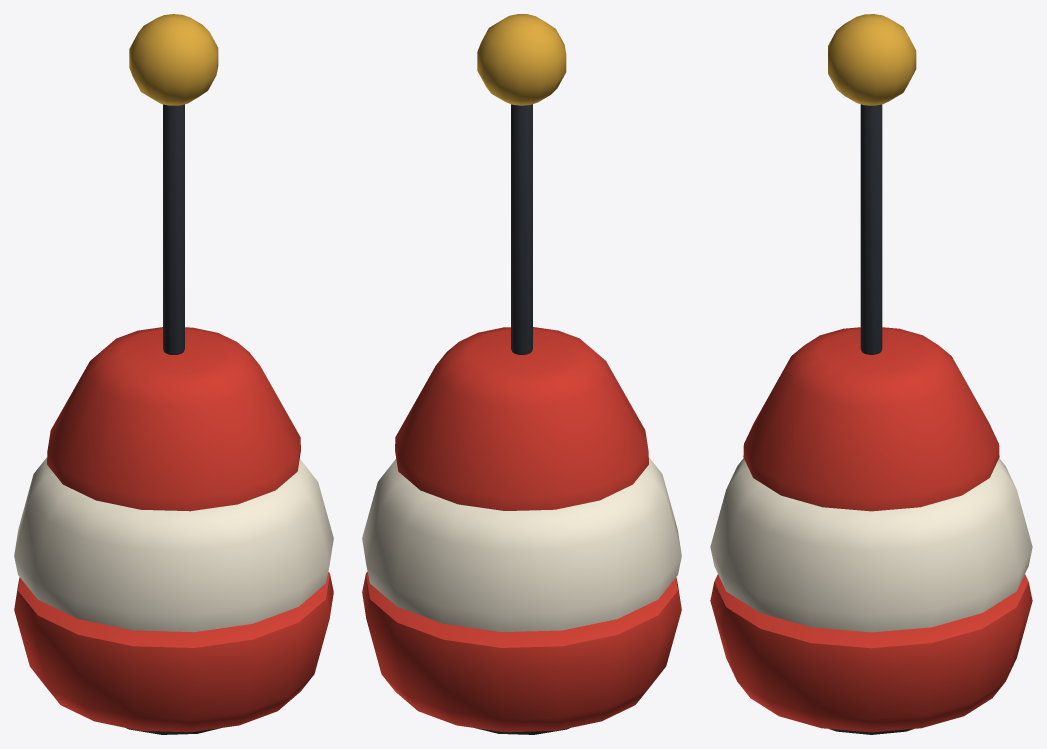
The model's file is Buoy.glb.
The picture shows the model from 3 angles, left to right: view 1: azimuth 30°, elevation 25°; view 2: azimuth 150°, elevation 25°; view 3: azimuth 270°, elevation 25°; orthographic projection.
Parts seen in each view (by area): view 1: Buoy; view 2: Buoy; view 3: Buoy.
Part boxes in pixels (box(x1,y1,x2,y2)): Buoy: box(14, 14, 333, 734); Buoy: box(362, 14, 681, 734); Buoy: box(710, 14, 1032, 734).
Size of the model in its own units: 0.4206 by 0.9833 by 0.4206.
